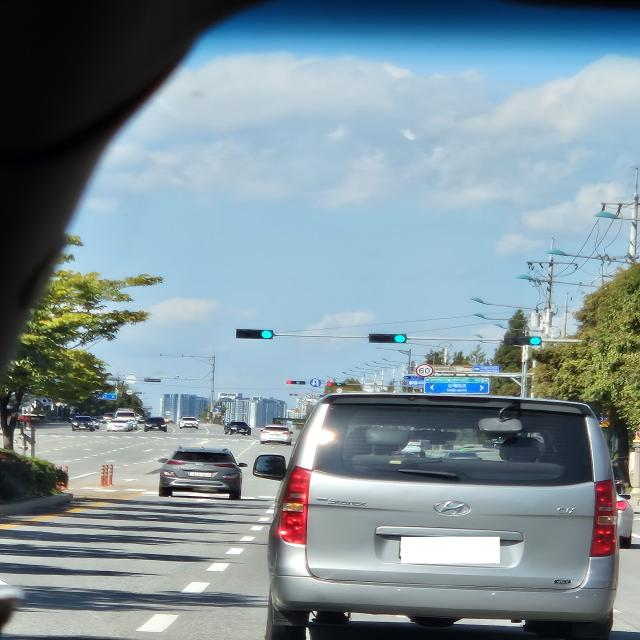Green Light: (392, 334, 406, 344), (528, 336, 541, 346), (260, 330, 272, 339)
